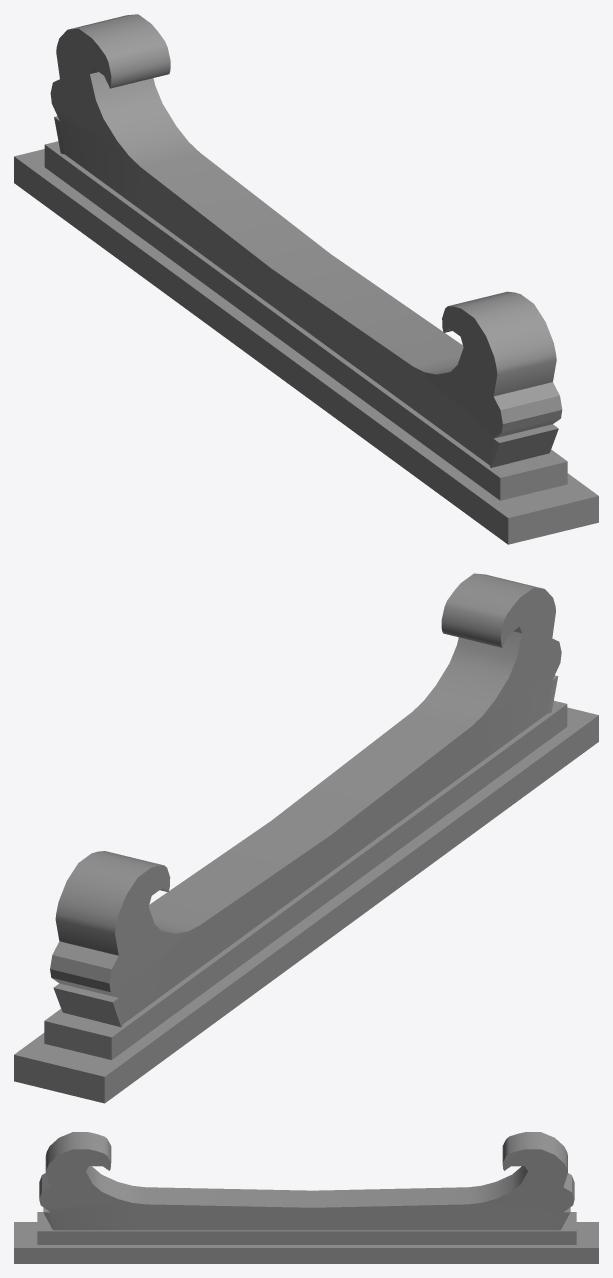
The model's file is on_the_roof3.fbx.
3 renders of one model, top to bottom at view 1: azimuth 30°, elevation 25°; view 2: azimuth 150°, elevation 25°; view 3: azimuth 270°, elevation 25°, orthographic. The views are drawn at different scales.
Visible parts, largest first — view 1: on_the_roof3; view 2: on_the_roof3; view 3: on_the_roof3.
Part boxes in pixels (x1=…): on_the_roof3: x1=14, y1=14, x2=598, y2=544; on_the_roof3: x1=14, y1=573, x2=598, y2=1103; on_the_roof3: x1=14, y1=1132, x2=598, y2=1263.
Size of the model in its own units: 66.92 by 131 by 631.
